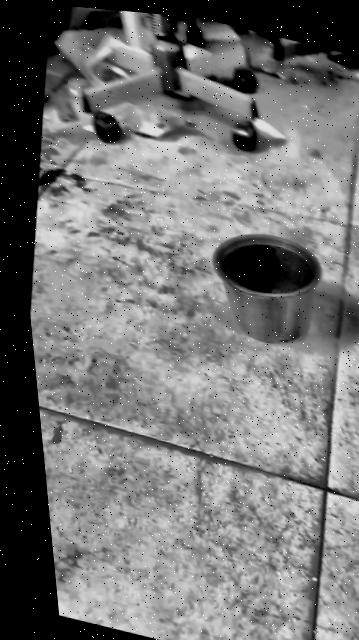pot: (197, 219, 331, 354)
